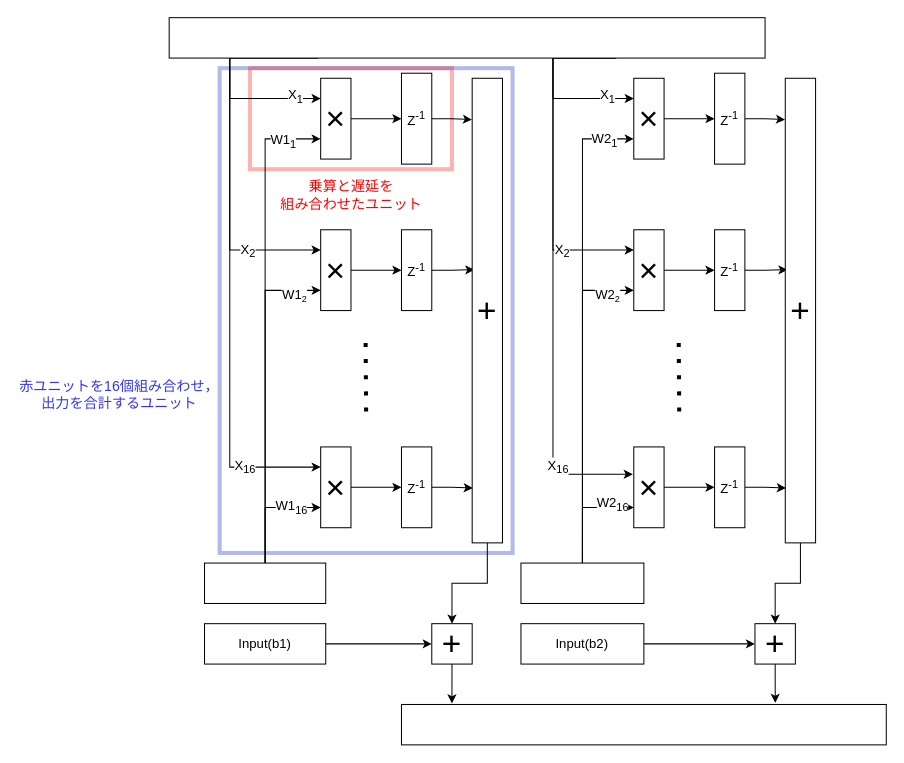
This 904x763 diagram has some shape labels left out. The shapes that lost their labels are listed below. From the top down, each one's centre as x and y in pixels, then its label:
(x=466, y=37): Input(X)
(x=265, y=582): Input(w1)
(x=582, y=582): Input(w2)
(x=643, y=724): Output(Z)
